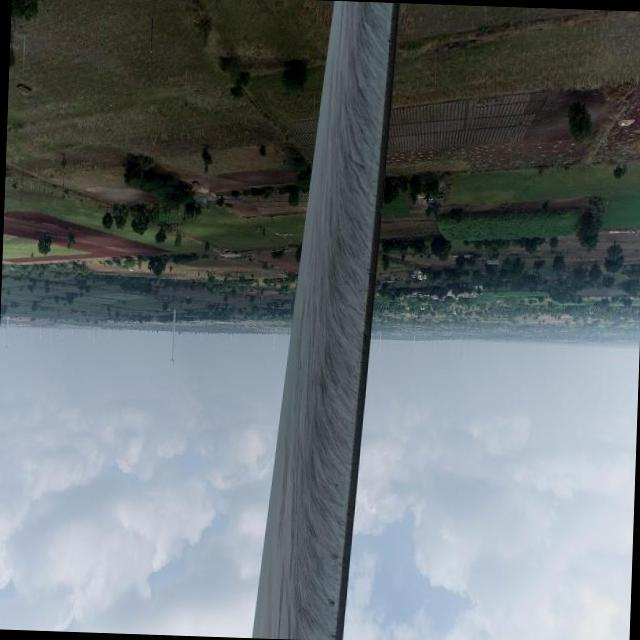Dirt: (252, 2, 400, 640)
Pin Hole: (327, 595, 339, 611)
